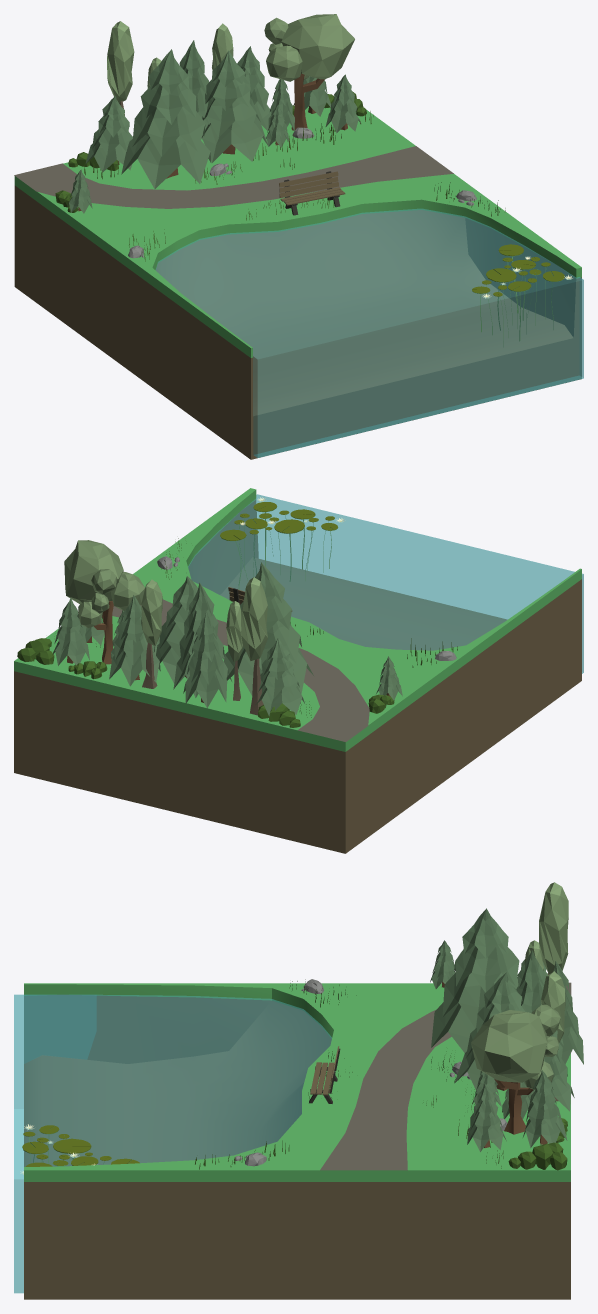
Rendered from Park.glb.
The picture shows the model from 3 angles, top to bottom: view 1: azimuth 30°, elevation 25°; view 2: azimuth 150°, elevation 25°; view 3: azimuth 270°, elevation 25°; orthographic projection. The views are drawn at different scales.
Parts seen in each view (by area): view 1: grass, lake, path7_Material #824_0, Cone010_Material #839_0, GeoSphere018, Cone014_Material #839_0, Cone011_Material #839_0, GeoSphere019_Material #867_0, Box026, Cone012_Material #839_0, Cone013_Material #839_0, Cone016_Material #839_0 (+5 smaller); view 2: grass, lake, GeoSphere018, path7_Material #824_0, Cone010_Material #839_0, Cone015_Material #839_0, Cone012_Material #839_0, Cone011_Material #839_0, Cone014_Material #839_0, GeoSphere019_Material #867_0, Cone013_Material #839_0, Cone019_Material #839_0 (+7 smaller); view 3: grass, lake, path7_Material #824_0, GeoSphere018, Cone010_Material #839_0, GeoSphere019_Material #867_0, Cone019_Material #839_0, Cone014_Material #839_0, Cone016_Material #839_0, Cone013_Material #839_0, Cone015_Material #839_0, GeoSphere033 (+4 smaller).
Part boxes in pixels (x1,y1,x2,y2): grass: [14, 106, 581, 459]; lake: [156, 209, 583, 457]; path7_Material #824_0: [14, 146, 453, 208]; Cone010_Material #839_0: [121, 49, 211, 189]; GeoSphere018: [264, 14, 354, 130]; Cone014_Material #839_0: [201, 50, 268, 162]; Cone011_Material #839_0: [85, 95, 132, 172]; GeoSphere019_Material #867_0: [107, 21, 134, 103]; Box026: [279, 171, 345, 215]; Cone012_Material #839_0: [237, 46, 271, 130]; Cone013_Material #839_0: [179, 40, 209, 139]; Cone016_Material #839_0: [325, 74, 361, 133]; grass: [14, 488, 581, 853]; lake: [188, 494, 583, 673]; GeoSphere018: [64, 540, 144, 664]; path7_Material #824_0: [112, 599, 369, 741]; Cone010_Material #839_0: [224, 562, 313, 695]; Cone015_Material #839_0: [183, 611, 227, 708]; Cone012_Material #839_0: [109, 595, 160, 686]; Cone011_Material #839_0: [255, 638, 304, 716]; Cone014_Material #839_0: [156, 576, 224, 685]; GeoSphere019_Material #867_0: [241, 577, 267, 660]; Cone013_Material #839_0: [173, 582, 231, 697]; Cone019_Material #839_0: [52, 597, 89, 665]; grass: [24, 983, 570, 1299]; lake: [14, 994, 331, 1293]; path7_Material #824_0: [320, 982, 571, 1170]; GeoSphere018: [471, 1004, 560, 1134]; Cone010_Material #839_0: [431, 908, 519, 1052]; GeoSphere019_Material #867_0: [539, 882, 568, 974]; Cone019_Material #839_0: [523, 1070, 567, 1147]; Cone014_Material #839_0: [454, 972, 525, 1089]; Cone016_Material #839_0: [467, 1083, 506, 1151]; Cone013_Material #839_0: [516, 950, 546, 1013]; Cone015_Material #839_0: [553, 961, 583, 1064]; GeoSphere033: [508, 1142, 567, 1170].
Size of the model in its own units: 342 by 242 by 438.
